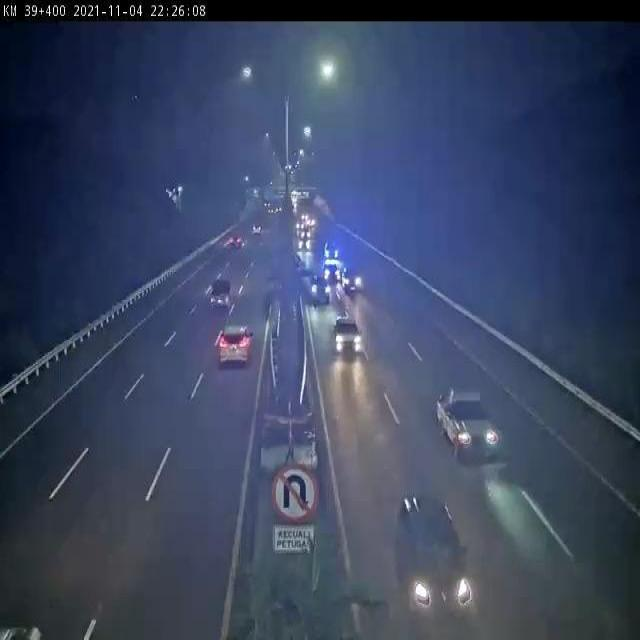car: (398, 502, 460, 606), (198, 319, 258, 373), (448, 397, 501, 456), (333, 316, 363, 357), (342, 260, 357, 289), (311, 269, 326, 295), (222, 240, 242, 256)
truck-s-: (200, 270, 233, 310)
